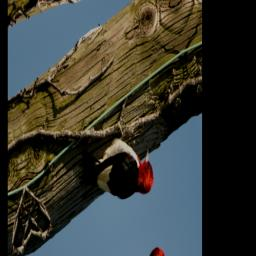Woodpecker: (74, 100, 156, 231)
